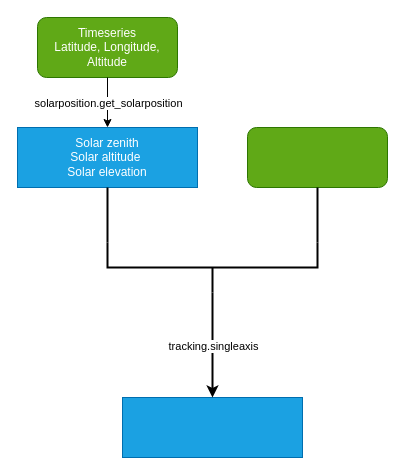
Some shapes in this 405 by 475 pixel diagram are drawn without their labels. Here are the shapes that lost their labels. From the top down, the centre of each, then its label:
the point at 317,157: Tracker/axis azimuth Tracker/axis tilt Maximum rotation angle
the point at 212,427: Tracker rotation angle Angle of incidence
